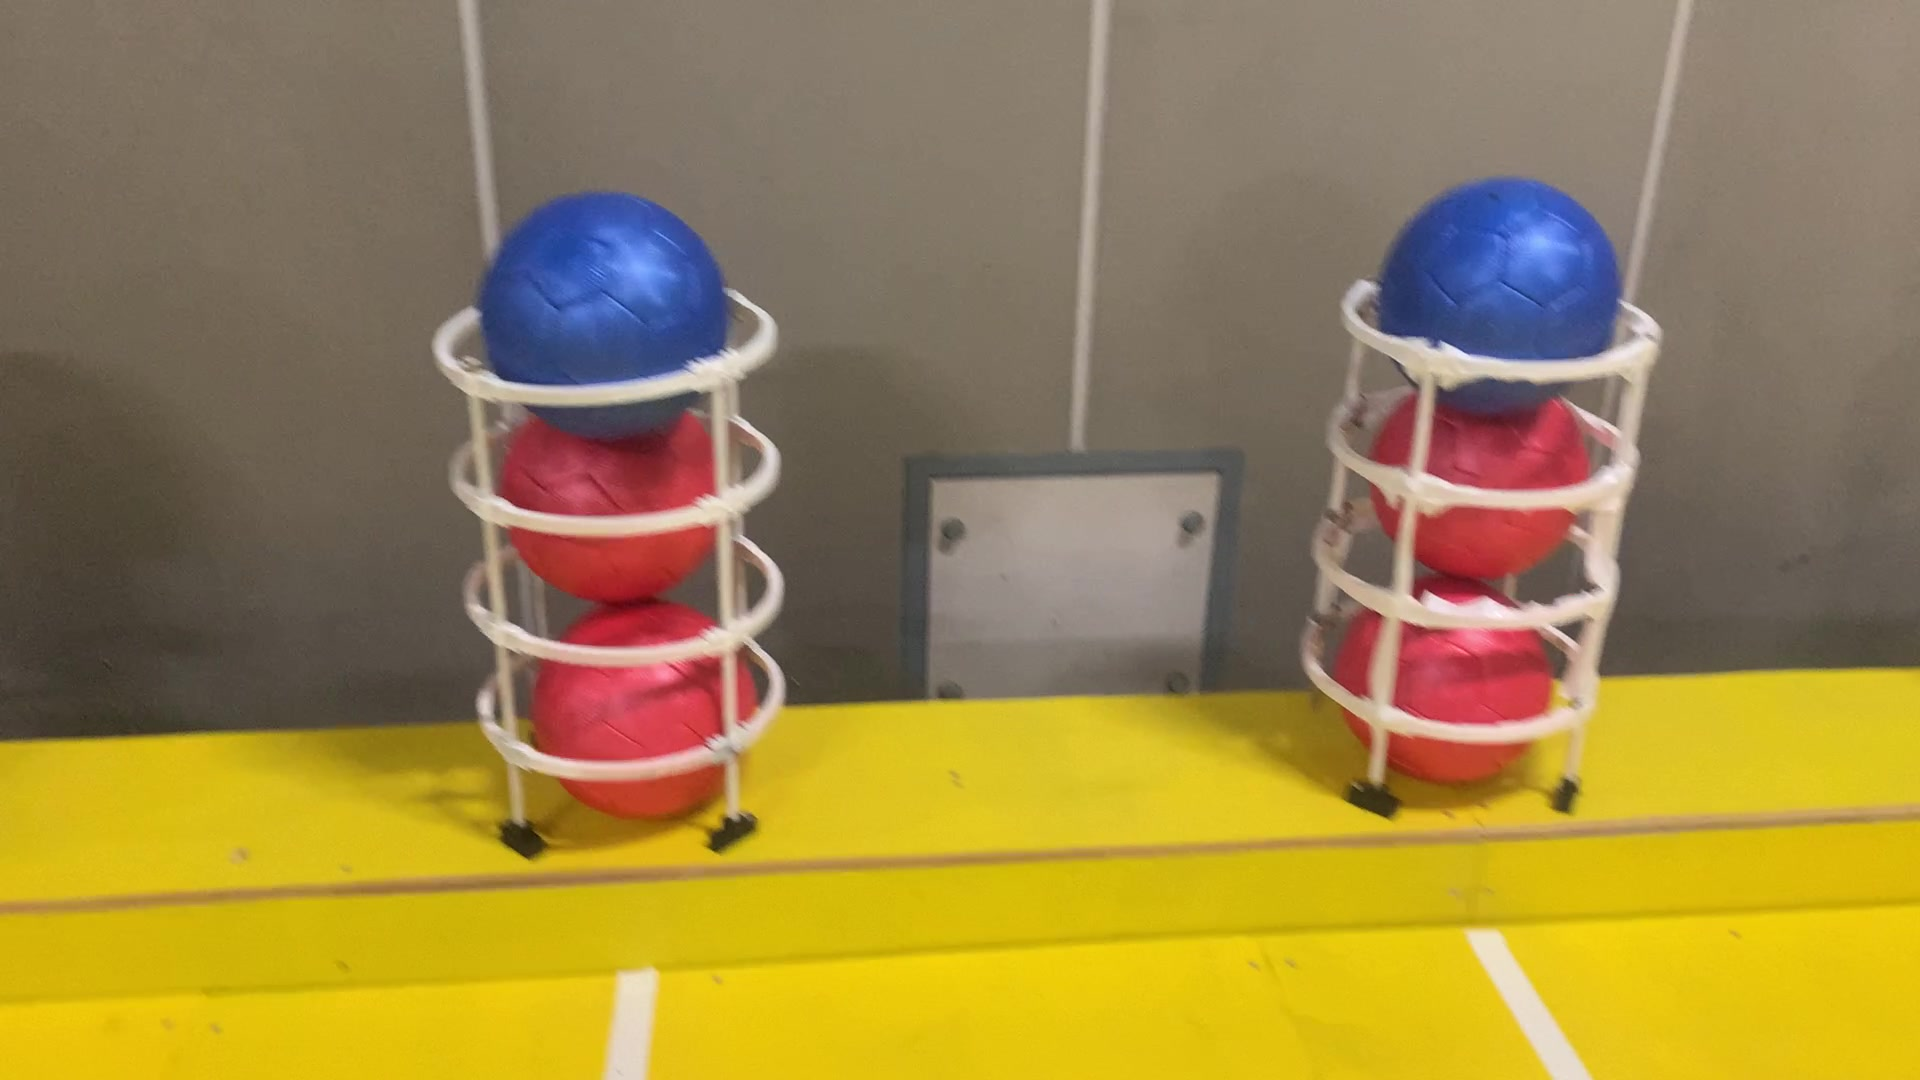blue: (1378, 170, 1629, 423), (471, 189, 728, 430)
red: (492, 396, 731, 612), (539, 584, 757, 816), (1365, 371, 1594, 584), (1337, 580, 1568, 790)
